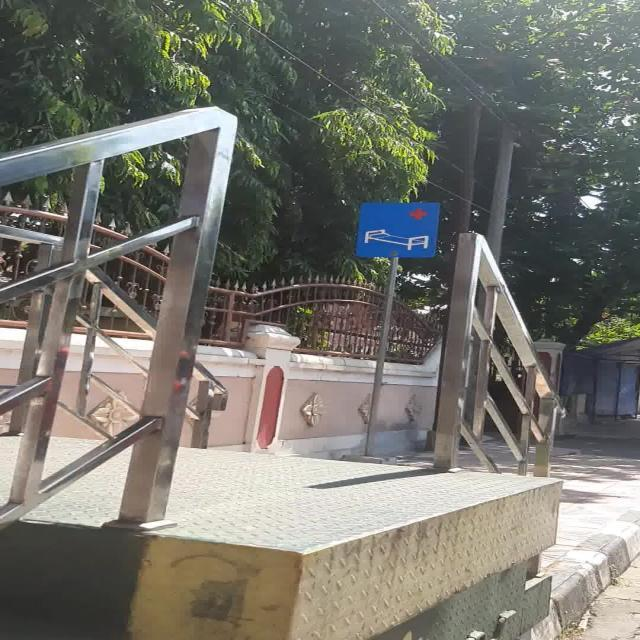Rumah Sakit: (356, 202, 440, 258)
